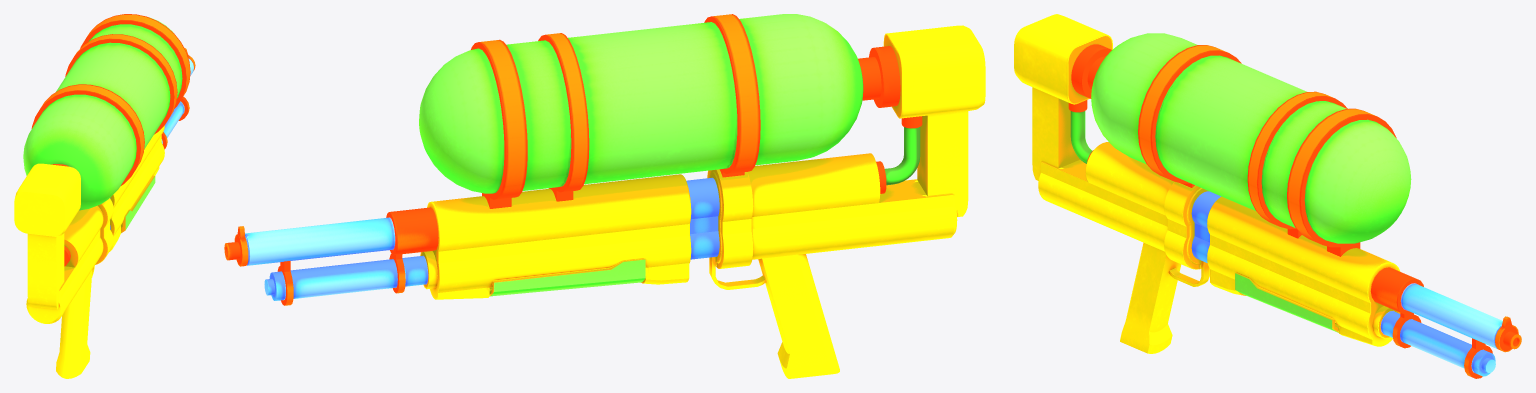
Rendered from watergun.glb.
3 views of the same model, side by side, from view 1: azimuth 30°, elevation 25°; view 2: azimuth 150°, elevation 25°; view 3: azimuth 270°, elevation 25° (orthographic). The views are drawn at different scales.
Visible parts, largest first — view 1: Object_2; view 2: Object_2; view 3: Object_2.
Part boxes in pixels (left/top/right/bottom): Object_2: left=14, top=14, right=195, bottom=378; Object_2: left=224, top=14, right=985, bottom=378; Object_2: left=1014, top=14, right=1521, bottom=378.
Bounding box in the file's own units: 0.5143 × 0.35 × 0.5086.
1 material, 1 textured.
